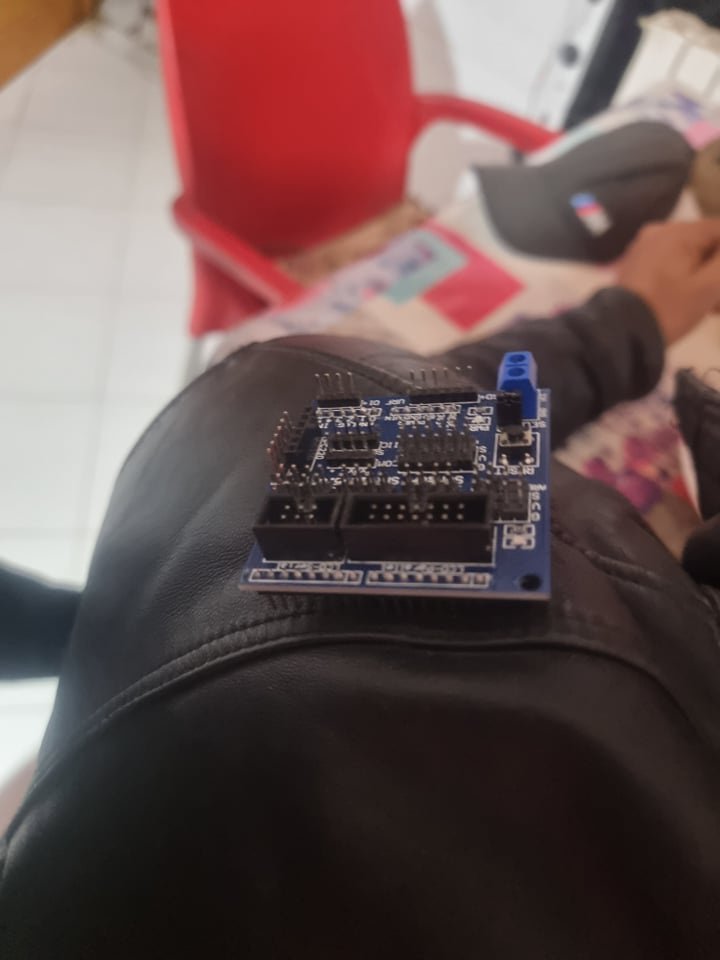5V EXPANSION: (240, 350, 555, 601)
